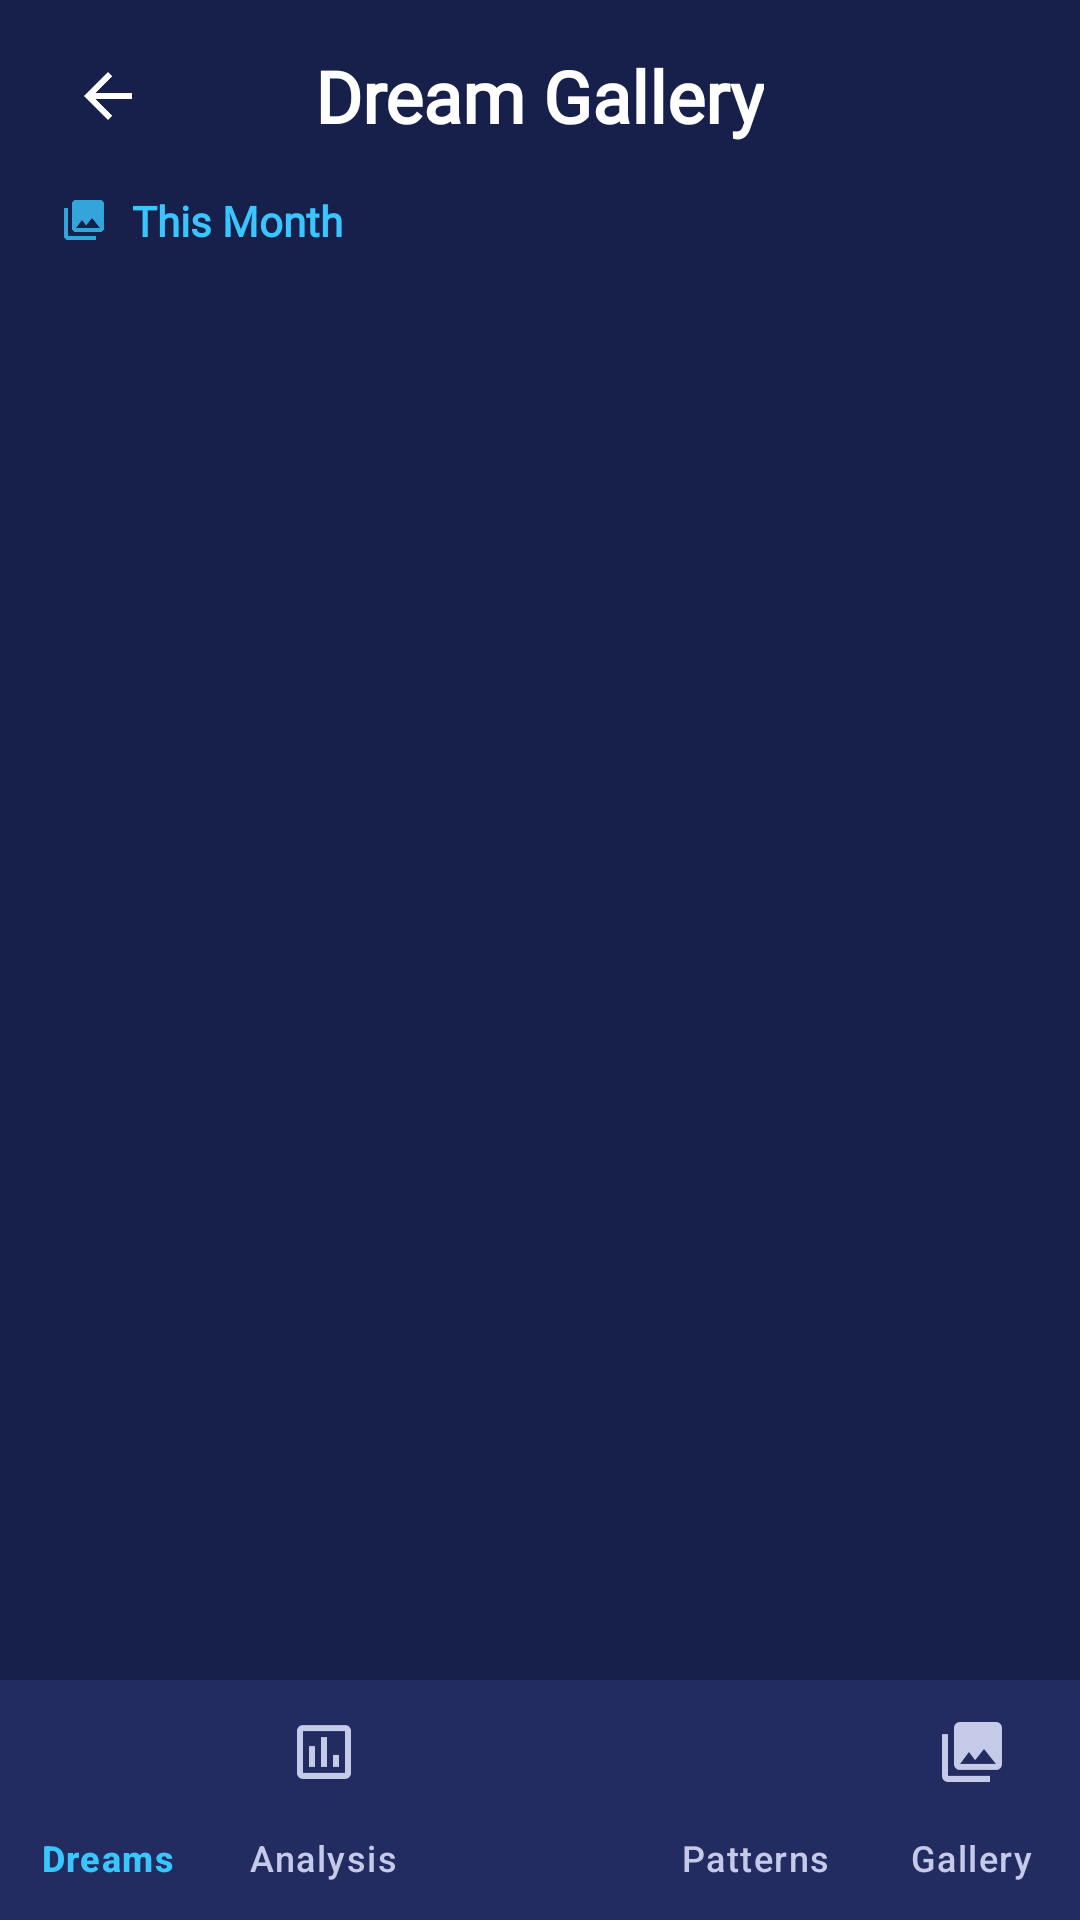

Screen size 1080px×1920px. Icon name, then its center in pixels as (x,y):
Back: (108,96)
